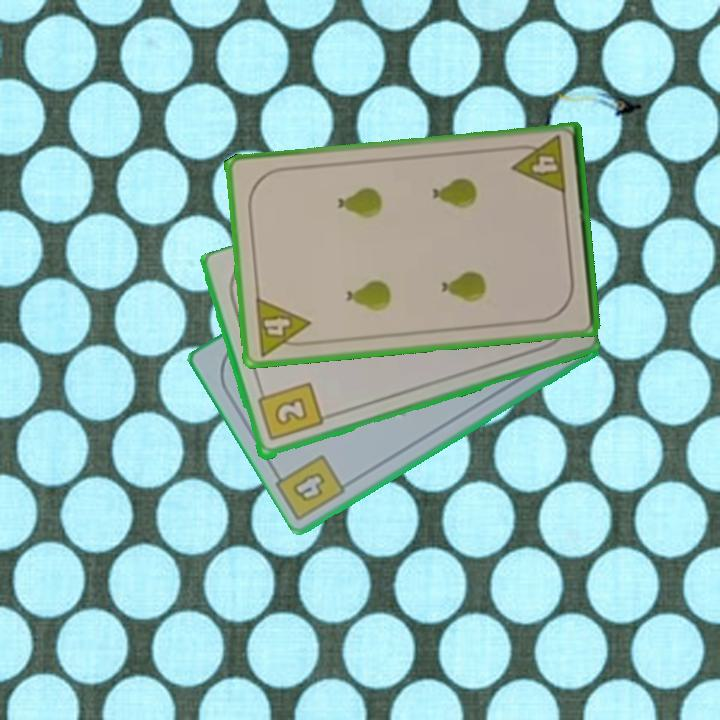2b: (253, 379, 325, 444)
4b: (288, 468, 328, 506)
4p: (251, 294, 315, 359), (508, 132, 569, 198)
